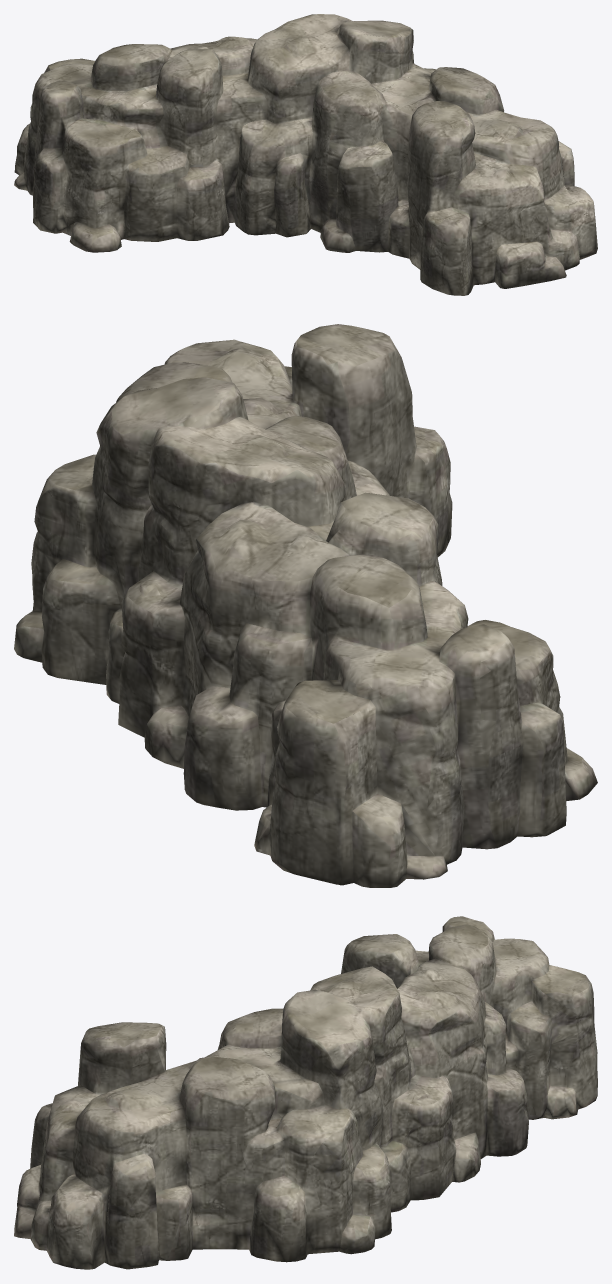
Rendered from a31_cliff_a.glb.
The picture shows the model from 3 angles, top to bottom: view 1: azimuth 30°, elevation 25°; view 2: azimuth 150°, elevation 25°; view 3: azimuth 270°, elevation 25°; orthographic projection. The views are drawn at different scales.
Parts seen in each view (by area): view 1: body; view 2: body; view 3: body.
Part boxes in pixels (x1=…): body: x1=14, y1=14, x2=597, y2=295; body: x1=14, y1=324, x2=597, y2=887; body: x1=14, y1=916, x2=597, y2=1269.
Size of the model in its own units: 0.9225 by 0.3753 by 1.
Materials: 1 (1 with a texture image).
